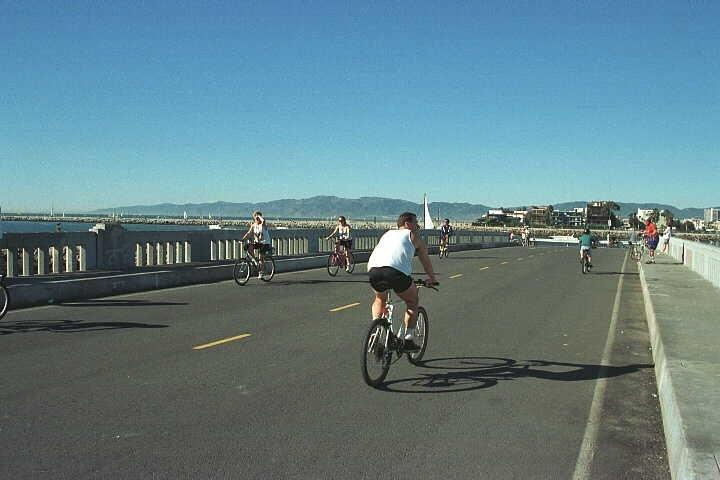non-vehicle: (360, 279, 440, 387), (232, 240, 275, 285), (326, 238, 356, 276), (0, 274, 9, 320), (438, 233, 448, 259), (581, 248, 590, 273)
